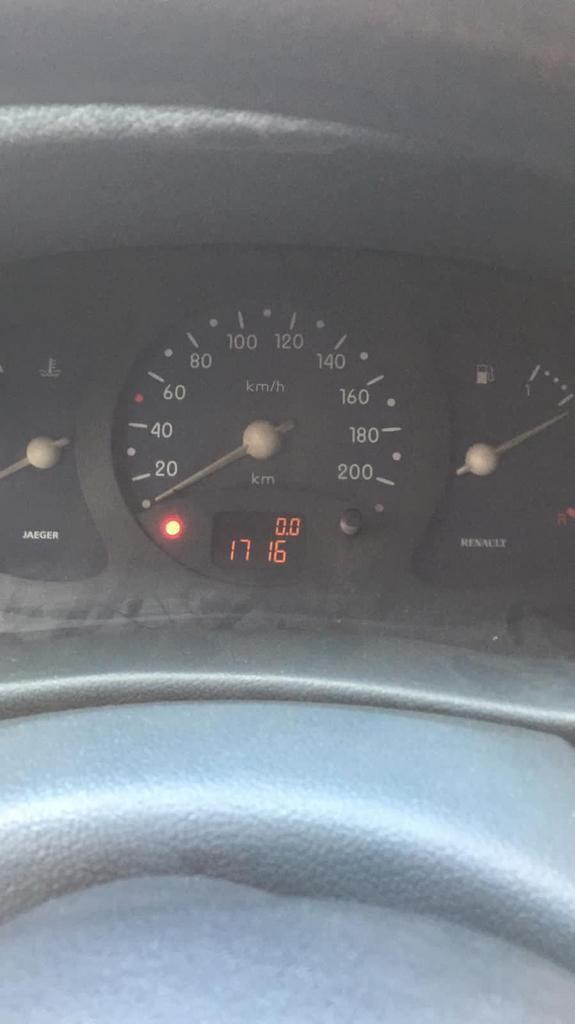,: (285, 530, 289, 536)
0: (289, 517, 299, 536), (275, 516, 285, 535)
1: (228, 536, 237, 563), (266, 538, 272, 564)
6: (273, 538, 286, 564)
7: (239, 536, 252, 562)
odometer: (211, 510, 308, 568)
